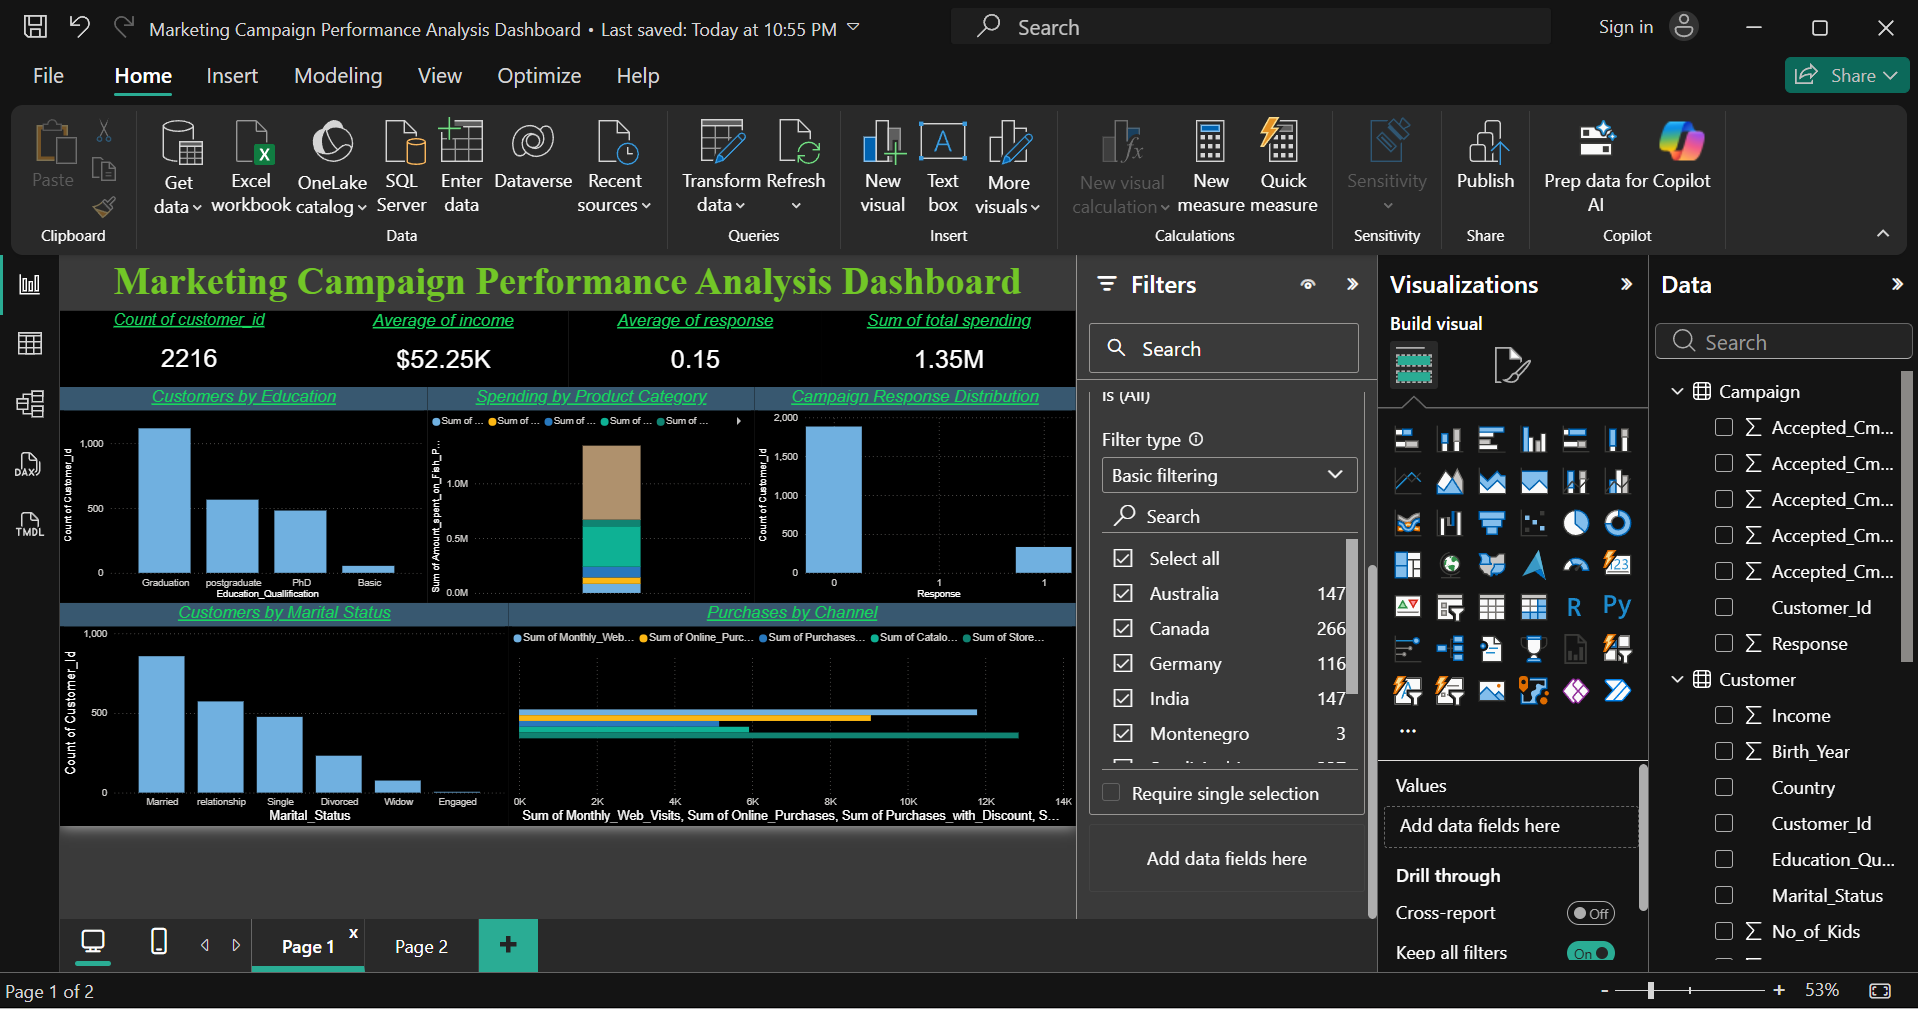

Layout of this report page (visuals, bound fields, positions):
{"tool":"powerbi","page":{"name":"Page 1","canvas":[1280,720],"ordinal":0},"visuals":[{"type":"card","title":"Count of customer_id","fields":{"Values":["CountNonNull(Campaign.Customer_Id)"]},"box":[0,69.9,325,96.4],"z":0},{"type":"card","title":"Average of income","fields":{"Values":["Avg(Customer. Income )"]},"box":[325,69.9,315.6,96.4],"z":1000},{"type":"card","title":"Average of response","fields":{"Values":["Avg(Campaign.Response)"]},"box":[640.6,69.9,319.4,96.4],"z":2000},{"type":"card","title":"Sum of total spending ","fields":{"Values":["Sum(Spending.Total_Spending)"]},"box":[960,69.9,319.4,96.4],"z":3000},{"type":"clusteredColumnChart","title":"Customers by Education","fields":{"Category":["Customer.Education_Quallification"],"Y":["CountNonNull(Customer.Customer_Id)"]},"box":[0,166.3,463,272.1],"z":4000},{"type":"clusteredColumnChart","title":"Customers by Marital Status","fields":{"Category":["Customer.Marital_Status"],"Y":["CountNonNull(Customer.Customer_Id)"]},"box":[0,438.4,565,281.6],"z":5000},{"type":"columnChart","title":"Spending by Product Category","fields":{"Y":["Sum(Spending.Amount_spent_on_Fish_Products)","Sum(Spending.Amount_spent_on_Fruits)","Sum(Spending.Amount_spent_on_Gold_Products)","Sum(Spending.Amount_spent_on_Meat_Products)","Sum(Spending.Amount_spent_on_Sweet_Products)","Sum(Spending.Amount_spent_on_Wines)"]},"box":[463,166.3,412,272.1],"z":6000},{"type":"columnChart","title":"Campaign Response Distribution","fields":{"Category":["Campaign.Response"],"Y":["CountNonNull(Campaign.Customer_Id)"]},"box":[875,166.3,404.4,272.1],"z":7000},{"type":"clusteredBarChart","title":"Purchases by Channel","fields":{"Y":["Sum(Purchase_Channel.Monthly_Web_Visits)","Sum(Purchase_Channel.Online_Purchases)","Sum(Purchase_Channel.Purchases_with_Discount)","Sum(Purchase_Channel.Catalog_Purchases)","Sum(Purchase_Channel.Store_Purchases)"]},"box":[565,438.4,714.3,281.6],"z":8000},{"type":"textbox","box":[0,0,1279.4,69.9],"z":9000}]}

Visuals, with their boxes on the page's 1280x720 design canvas (x1, y1, x2, y2). These are canvas units, not pixel positions in the 1918x1009 screenshot, which may show the page scaled, cropped or inside an application window:
"Count of customer_id" card: [x1=0, y1=70, x2=325, y2=166]
"Average of income" card: [x1=325, y1=70, x2=641, y2=166]
"Average of response" card: [x1=641, y1=70, x2=960, y2=166]
"Sum of total spending " card: [x1=960, y1=70, x2=1279, y2=166]
"Customers by Education" clusteredColumnChart: [x1=0, y1=166, x2=463, y2=438]
"Customers by Marital Status" clusteredColumnChart: [x1=0, y1=438, x2=565, y2=720]
"Spending by Product Category" columnChart: [x1=463, y1=166, x2=875, y2=438]
"Campaign Response Distribution" columnChart: [x1=875, y1=166, x2=1279, y2=438]
"Purchases by Channel" clusteredBarChart: [x1=565, y1=438, x2=1279, y2=720]
textbox: [x1=0, y1=0, x2=1279, y2=70]
